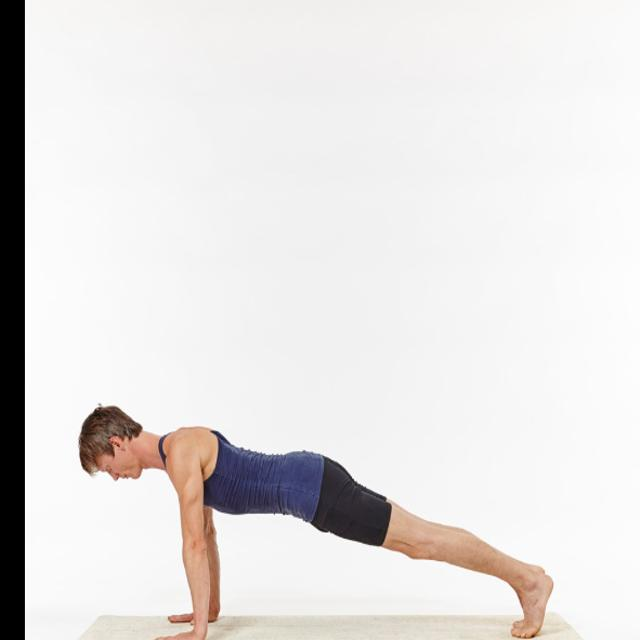Plank_Pose: (70, 404, 559, 640)
